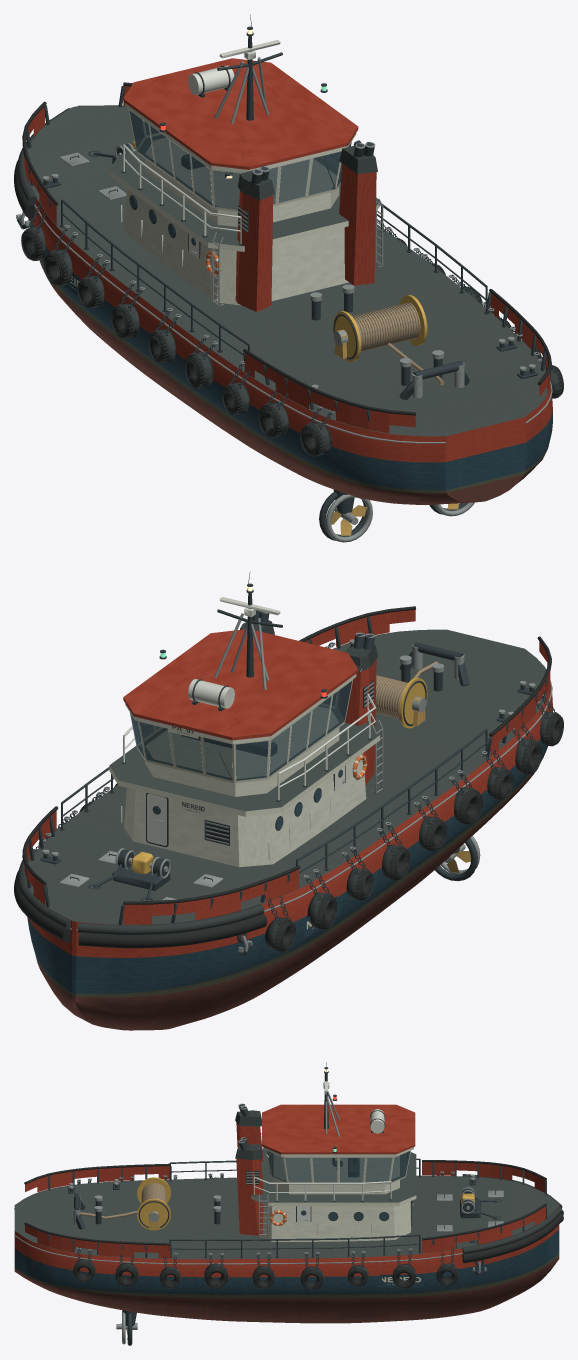
Rendered from tug.fbx.
3 renders of one model, top to bottom at view 1: azimuth 30°, elevation 25°; view 2: azimuth 150°, elevation 25°; view 3: azimuth 270°, elevation 25°, orthographic. The views are drawn at different scales.
Visible parts, largest first — view 1: tug_assembly; view 2: tug_assembly; view 3: tug_assembly.
Part boxes in pixels (x1,y1,x2,y2): tug_assembly: [14, 14, 563, 542]; tug_assembly: [14, 571, 563, 1030]; tug_assembly: [14, 1062, 563, 1345].
Bounding box in the file's own units: 9.9 × 13.34 × 24.83.
15 materials, 3 textured.
